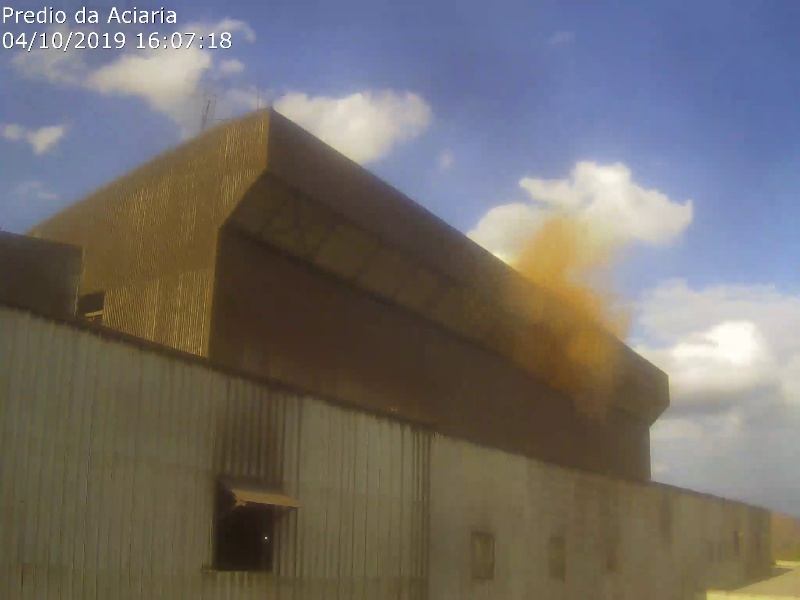bom: (2, 1, 429, 213), (429, 1, 800, 190)
pessimo: (482, 209, 655, 420)
